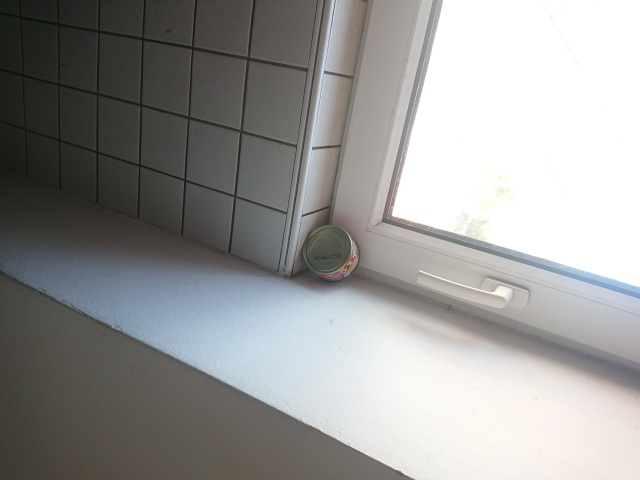Giana Tuna Salad Mexico 185g: (300, 223, 362, 284)
